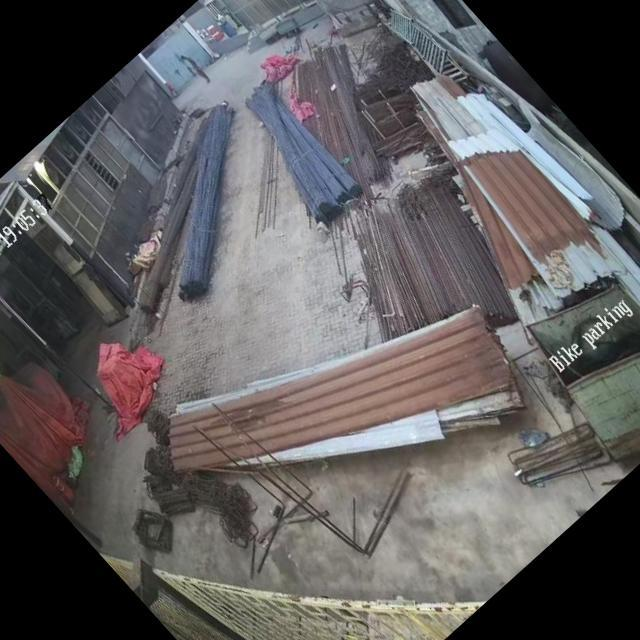person: (175, 46, 218, 91)
